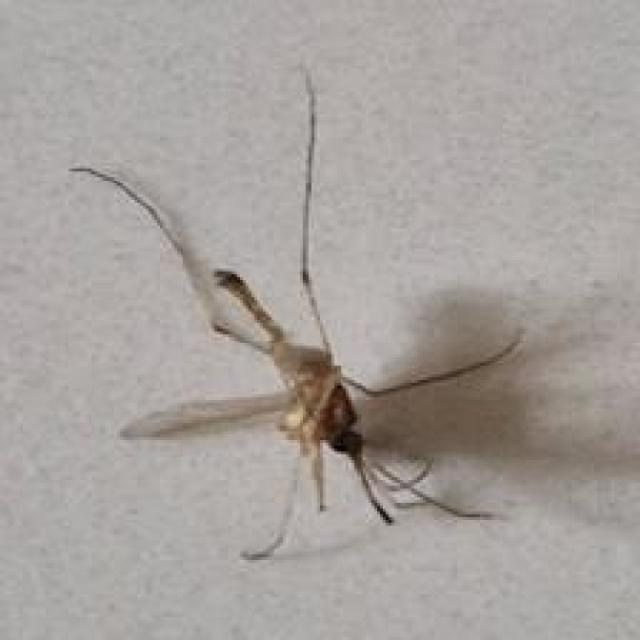Culex: (67, 67, 527, 562)
